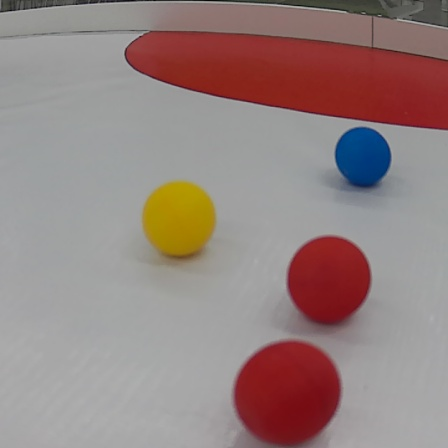blue: (330, 118, 391, 184)
red: (231, 338, 343, 446), (286, 235, 372, 324)
red_base: (119, 20, 448, 127)
yellow: (141, 179, 217, 259)
